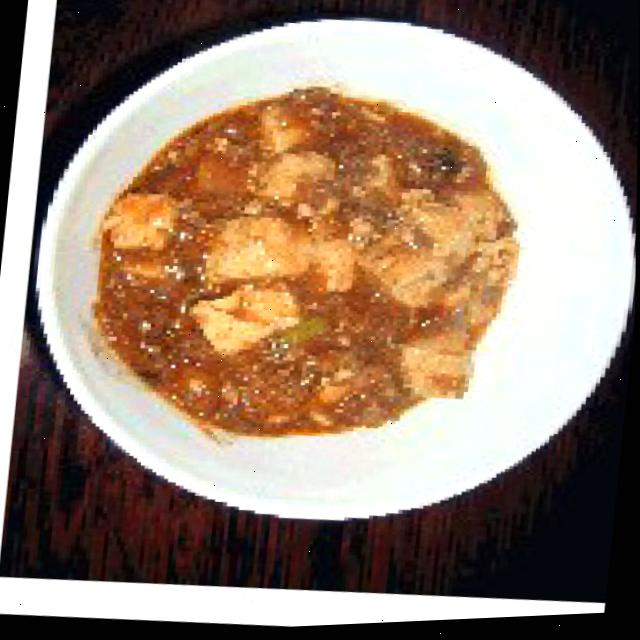豆腐料理: (15, 0, 640, 573)
